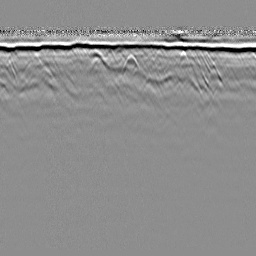cavity: (122, 52, 140, 69)
